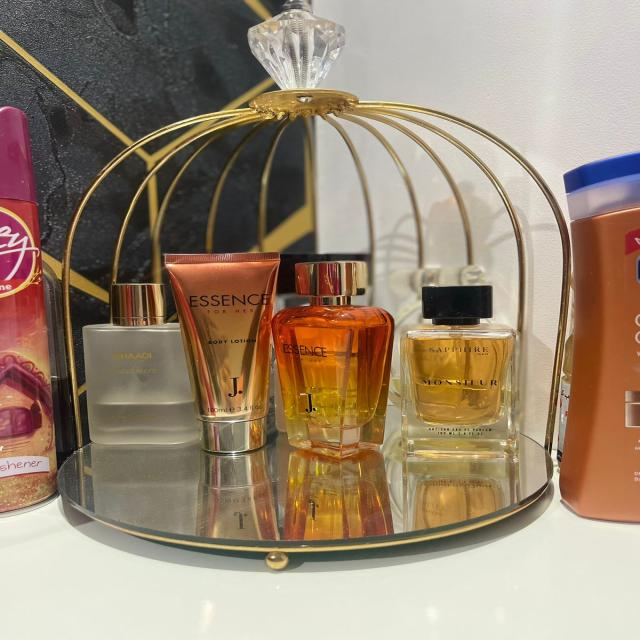foundation: (170, 239, 282, 464)
perfume: (283, 246, 515, 450)
setting spray: (59, 256, 193, 445)
